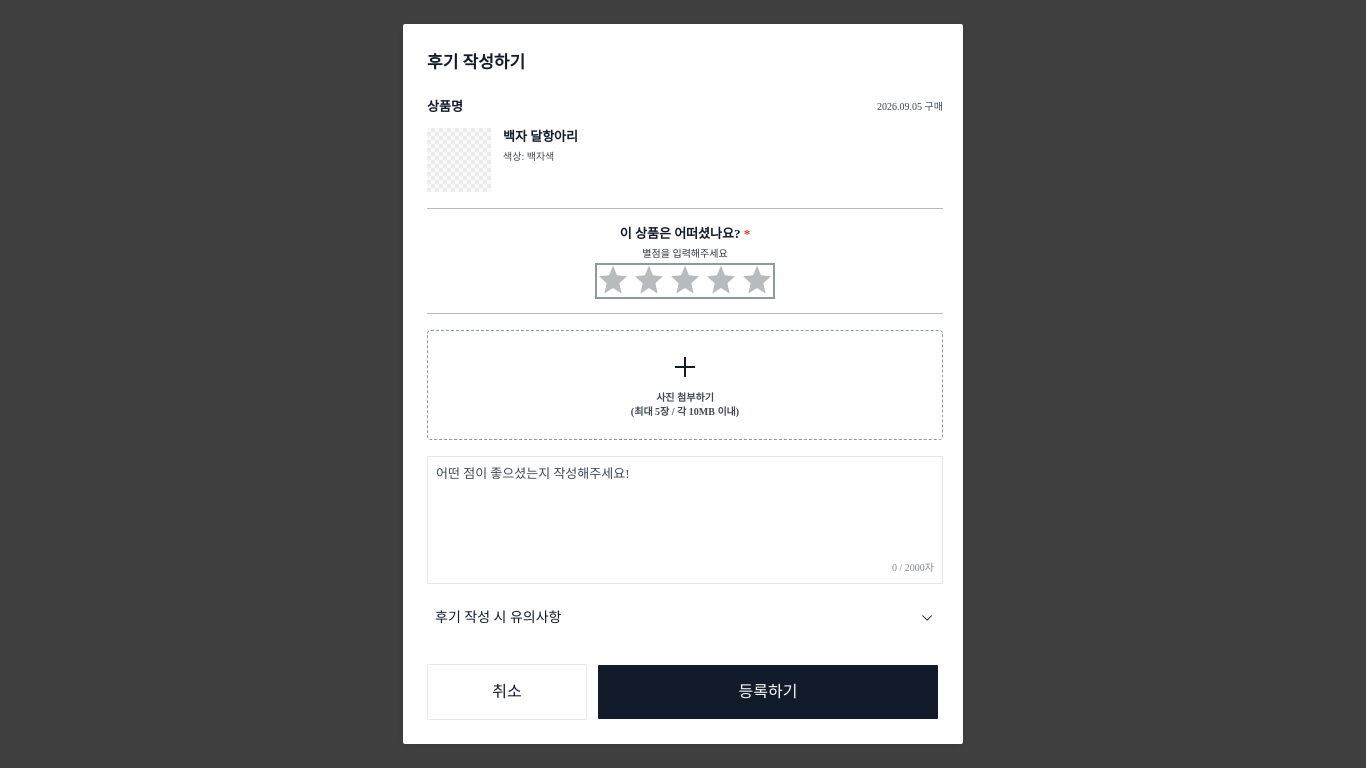
Test: ReviewFormModal › 별점을 고르지 않으면 제출되지 않는다
Click the button "등록하기" at (768, 692), box [597,664,939,720]
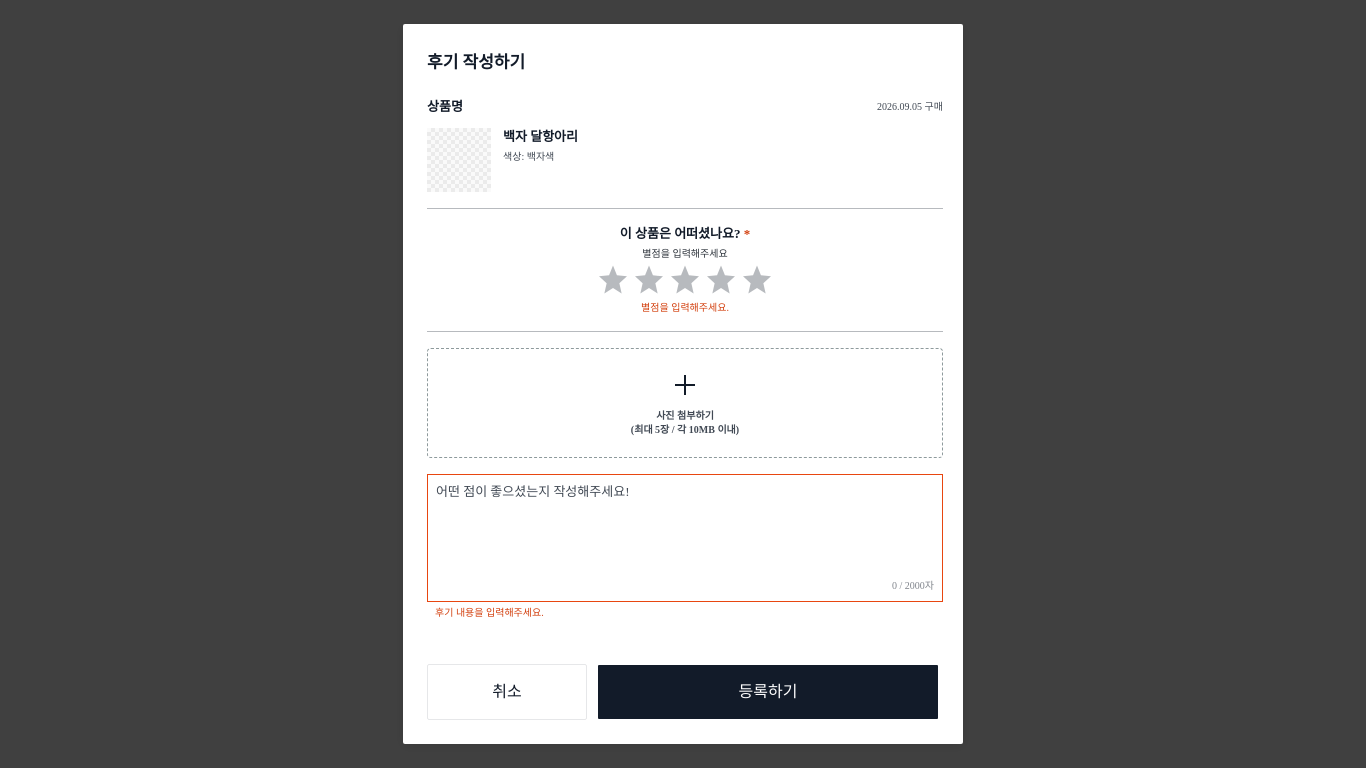
Check: the text "별점을 입력해주세요." is shown, box [641,302,729,313]
